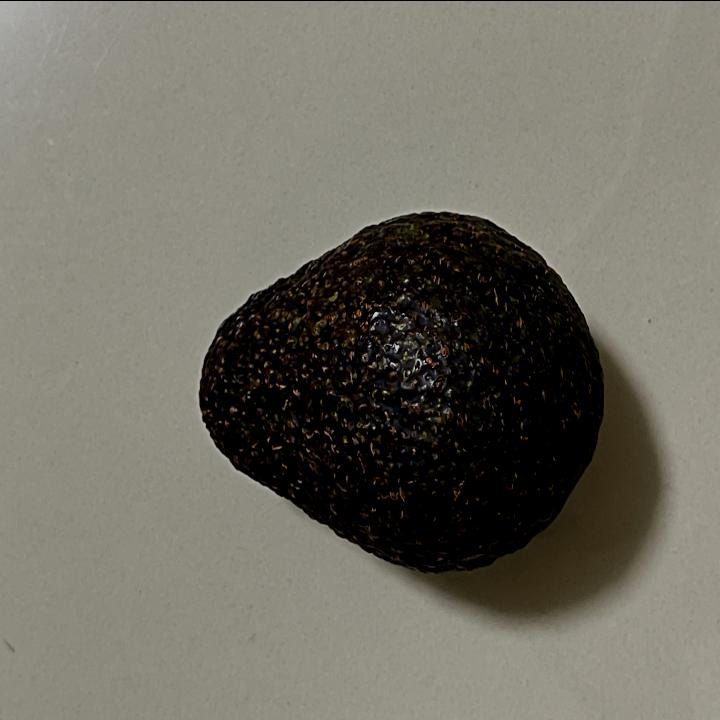Level1: (186, 186, 616, 594)
